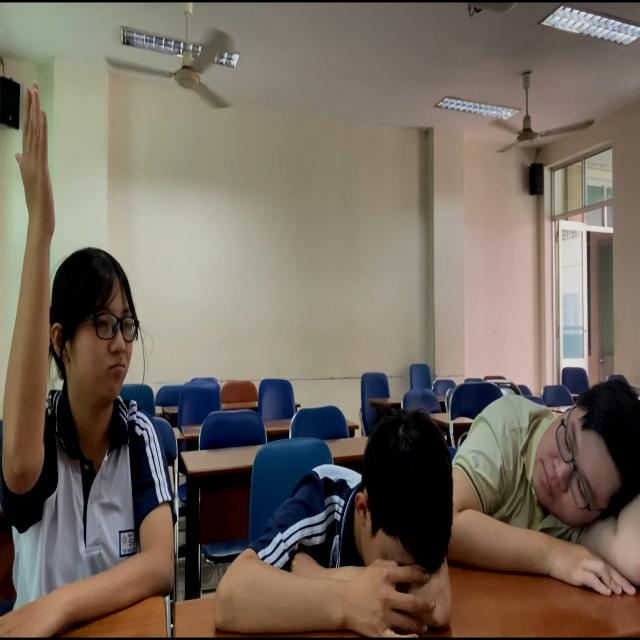raise_hand: (1, 1, 197, 636)
sleep: (215, 376, 471, 640), (462, 317, 640, 640)
